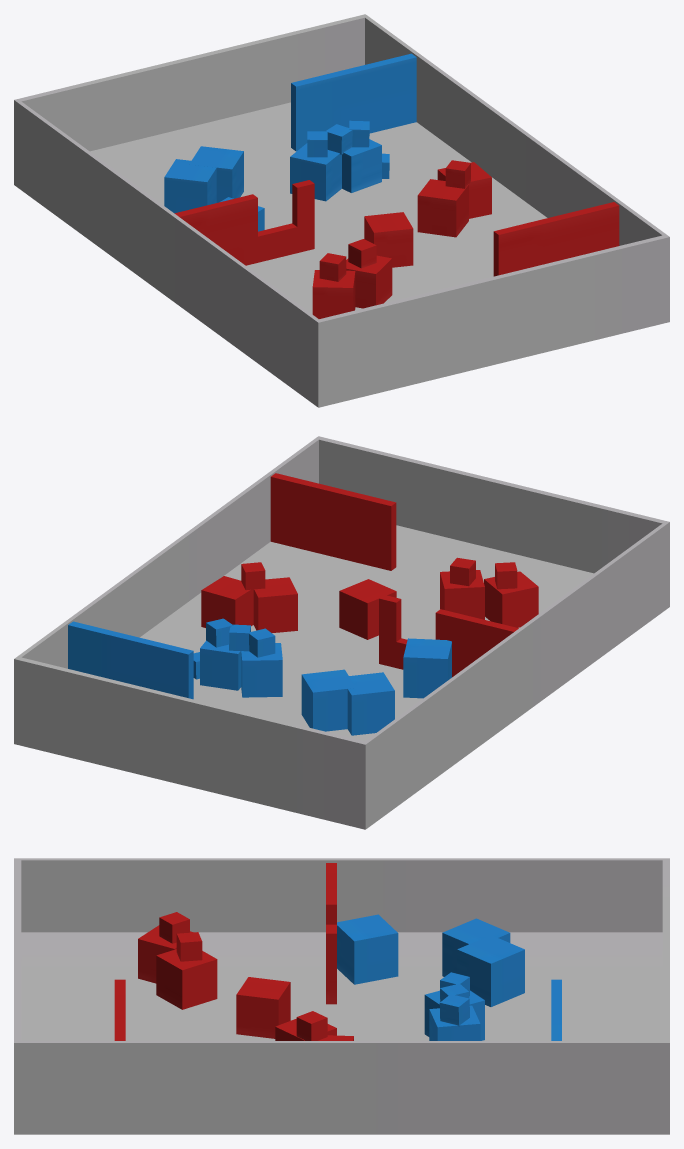
The model's file is fps1.obj.
3 renders of one model, top to bottom at view 1: azimuth 30°, elevation 25°; view 2: azimuth 150°, elevation 25°; view 3: azimuth 270°, elevation 25°, orthographic. The views are drawn at different scales.
Parts seen in each view (by area): view 1: Cube; view 2: Cube; view 3: Cube.
Part boxes in pixels (bbox=[...]): Cube: bbox=[14, 14, 669, 407]; Cube: bbox=[14, 436, 669, 829]; Cube: bbox=[14, 858, 669, 1134].
Bounding box in the file's own units: 20 × 4.62 × 30.
